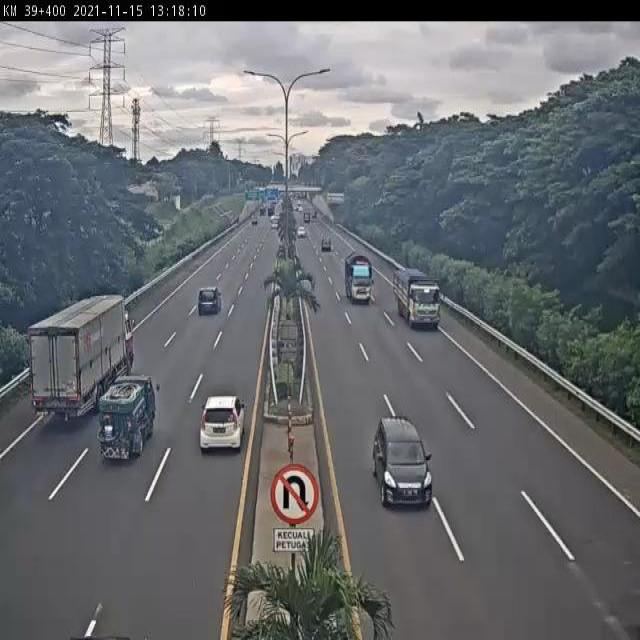car: (372, 413, 434, 507), (199, 392, 247, 452)
truck-l-: (33, 289, 137, 420), (390, 265, 441, 328)
truck-s-: (97, 369, 160, 464), (345, 250, 373, 306), (196, 284, 223, 317)
